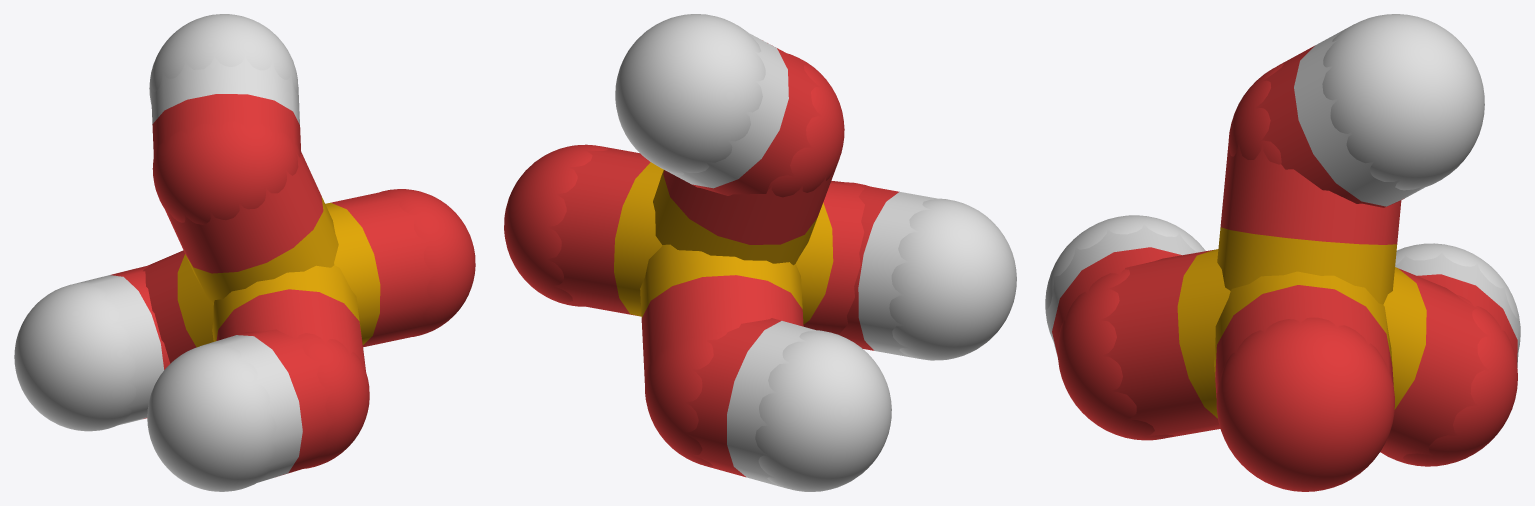
The model's file is 1004-sticks-color-print_NIH3D.glb.
3 renders of one model, left to right at view 1: azimuth 30°, elevation 25°; view 2: azimuth 150°, elevation 25°; view 3: azimuth 270°, elevation 25°, orthographic. The views are drawn at different scales.
Parts seen in each view (by area): view 1: bonds, atoms; view 2: bonds, atoms; view 3: bonds, atoms.
Part boxes in pixels (x1,y1,x2,y2): bonds: (77, 53, 439, 484); atoms: (14, 14, 475, 491); bonds: (547, 30, 944, 487); atoms: (504, 14, 1016, 491); bonds: (1046, 24, 1518, 462); atoms: (1045, 14, 1520, 491).
Size of the model in its own units: 4.82 by 4.56 by 4.26.
